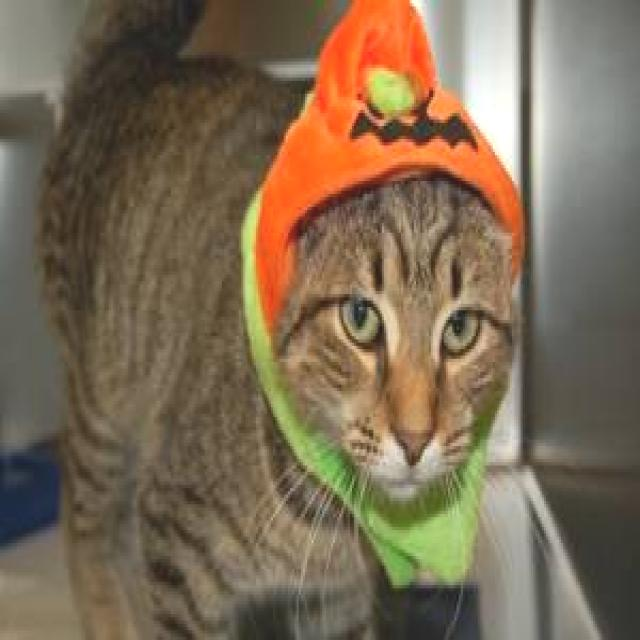Kucing: (18, 20, 575, 607)
